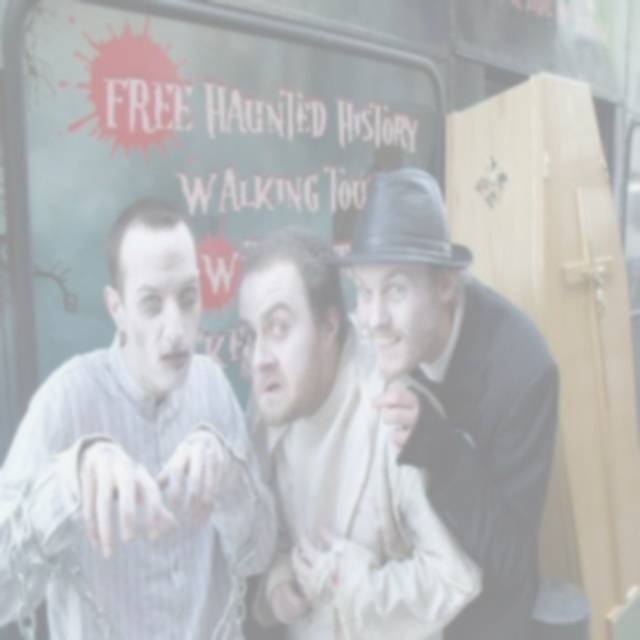pessoa: (236, 167, 563, 639), (0, 183, 292, 639), (236, 224, 486, 639)
